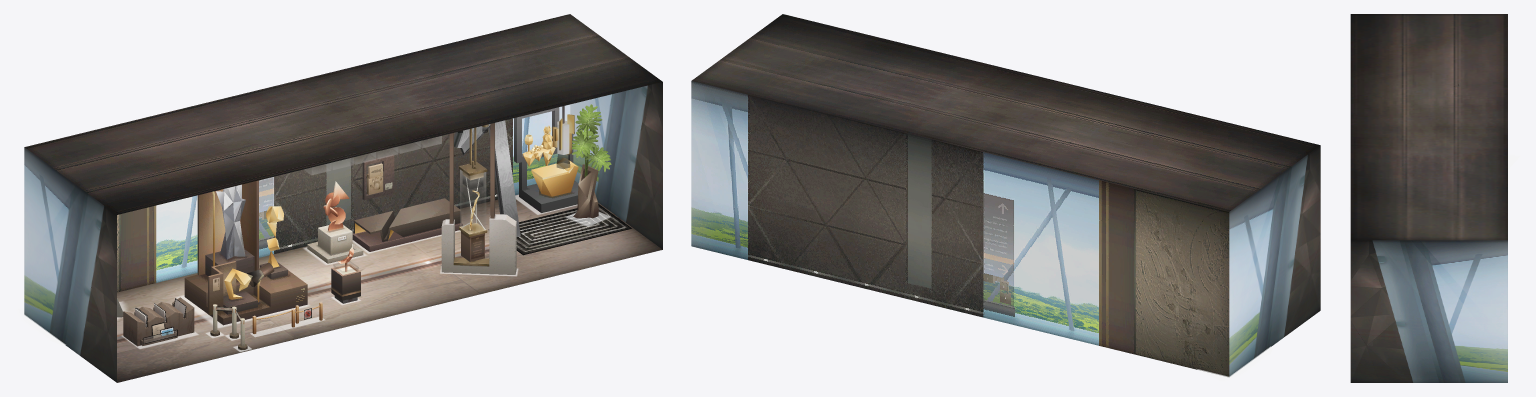
File: artmuseum.glb
3 views of the same model, side by side, from view 1: azimuth 30°, elevation 25°; view 2: azimuth 150°, elevation 25°; view 3: azimuth 270°, elevation 25° (orthographic). The views are drawn at different scales.
Parts seen in each view (by area): view 1: ROOM_room, ROOM_floor, furni_artmuseum_sculpture_01, furni_artmuseum_twistexhibit_01, furni_artmuseum_blackexhibit_01, furni_artmuseum_bench_01, furni_artmuseum_carpet_01, furni_artmuseum_brochure_01, furni_artmuseum_pillar_01, furni_artmuseum_stoneexhibit_01, ROOM_LDoor, ROOM_RDoor (+8 smaller); view 2: ROOM_room, ROOM_LDoor; view 3: ROOM_room, ROOM_RDoor.
Part boxes in pixels (left/top/right/bottom): ROOM_room: left=24, top=14, right=662, bottom=382; ROOM_floor: left=117, top=194, right=662, bottom=382; furni_artmuseum_sculpture_01: left=184, top=180, right=307, bottom=325; furni_artmuseum_twistexhibit_01: left=441, top=123, right=516, bottom=274; furni_artmuseum_blackexhibit_01: left=514, top=107, right=578, bottom=212; furni_artmuseum_bench_01: left=352, top=198, right=462, bottom=251; furni_artmuseum_carpet_01: left=488, top=203, right=631, bottom=255; furni_artmuseum_brochure_01: left=123, top=297, right=194, bottom=346; furni_artmuseum_pillar_01: left=454, top=120, right=520, bottom=236; furni_artmuseum_stoneexhibit_01: left=307, top=181, right=363, bottom=263; ROOM_LDoor: left=84, top=283, right=103, bottom=372; ROOM_RDoor: left=630, top=150, right=649, bottom=239; ROOM_room: left=691, top=14, right=1320, bottom=376; ROOM_LDoor: left=1288, top=245, right=1306, bottom=333; ROOM_room: left=1350, top=14, right=1507, bottom=382; ROOM_RDoor: left=1373, top=318, right=1405, bottom=382.
Bounding box in the file's own units: 7.62 × 2.2 × 2.4.
8 materials, 8 textured.
